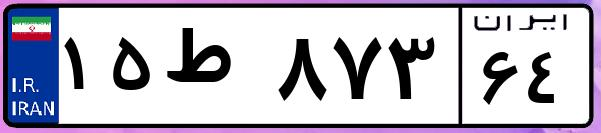1: (57, 26, 110, 100)
3: (385, 28, 445, 110)
4: (525, 38, 570, 115)
5: (110, 28, 158, 98)
6: (475, 38, 525, 113)
7: (330, 28, 385, 110)
8: (270, 28, 330, 110)
ط: (158, 20, 270, 120)
